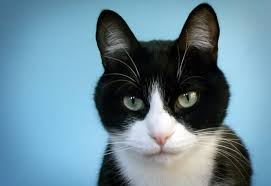Gato: (88, 6, 237, 165)
